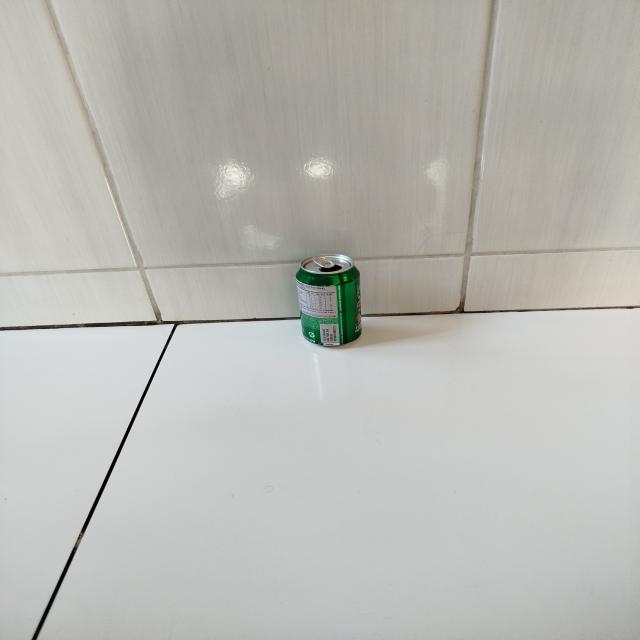Guarana: (295, 253, 366, 349)
